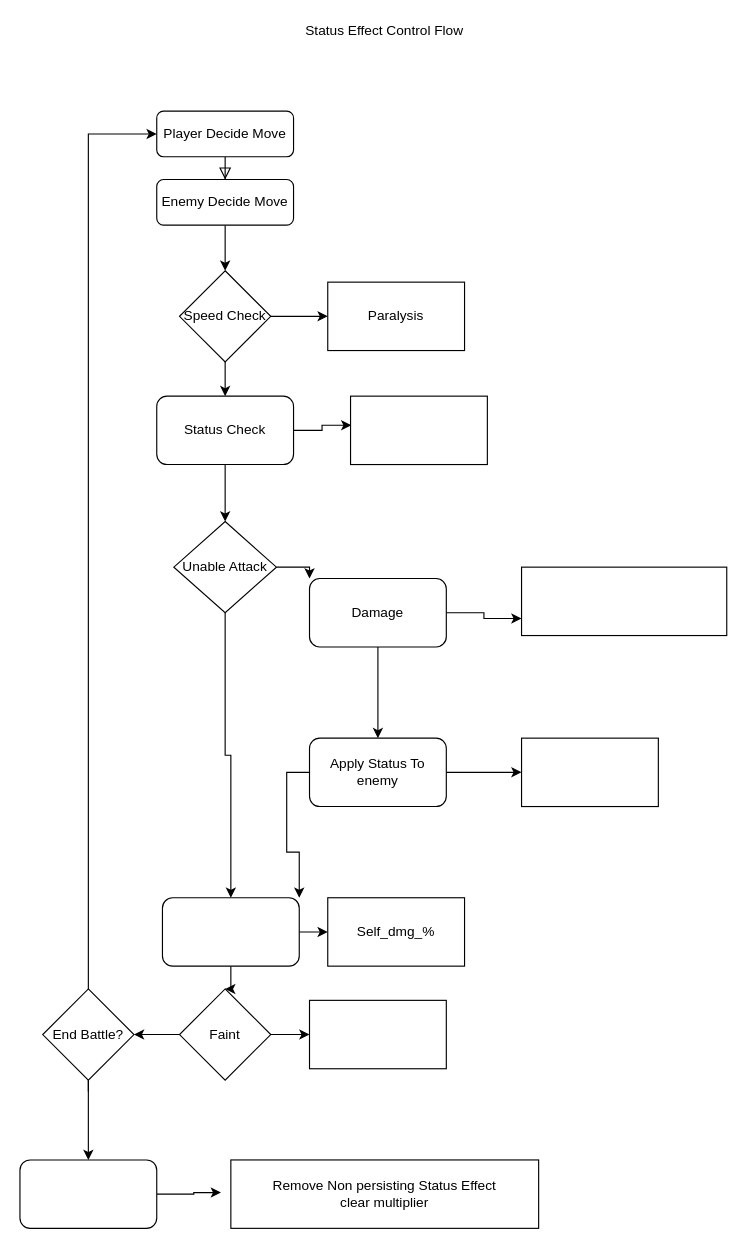
The diagram is 747 pixels wide and 1248 high, and some of its shapes have lost their labels. The shapes that lost their labels are listed below. From the top down, each one's centre as x and y in pixels, then its label:
(x=418, y=430): Removal Chance Duration Max | Min unable_attack%
(x=623, y=601): Affected_stat Affected_stat_multiplier
(x=589, y=772): Check if already persisting SE check ignore type
(x=230, y=931): End Turn
(x=377, y=1034): Empty Status Array clear multiplier
(x=88, y=1193): End Battle
